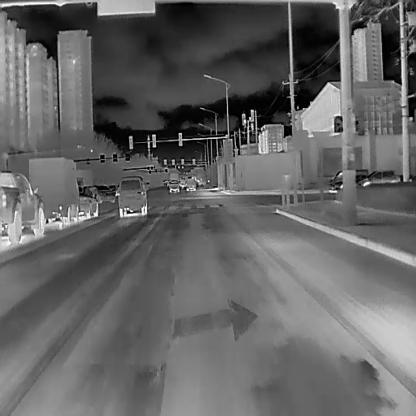car: (26, 157, 79, 229), (0, 171, 45, 243), (116, 175, 147, 217), (328, 169, 369, 190), (358, 168, 401, 185), (79, 184, 98, 221), (88, 184, 114, 202), (167, 180, 179, 192), (185, 179, 195, 190)
